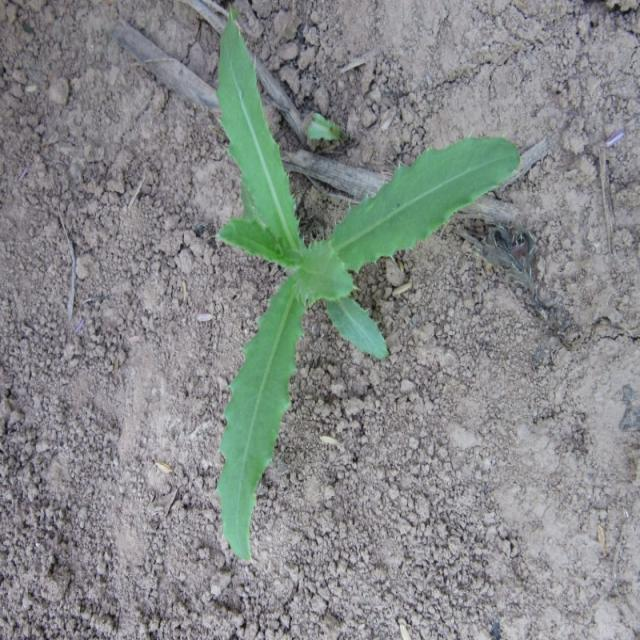field_thistle: (169, 18, 481, 492)
